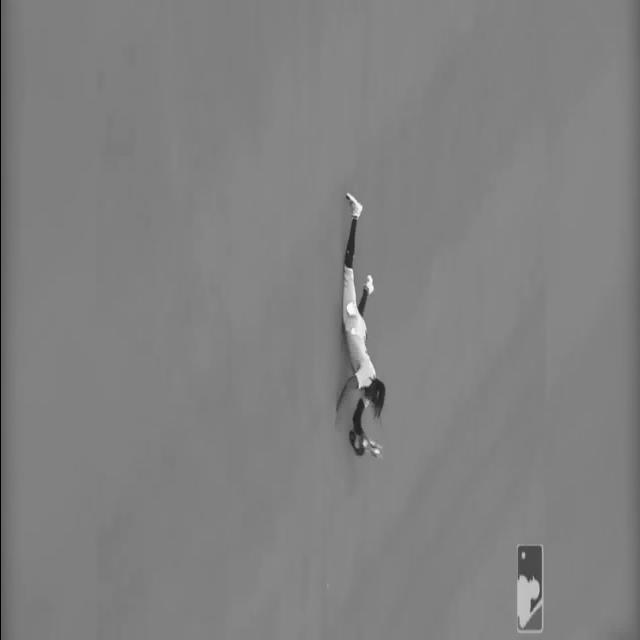baseball_glove: (346, 430, 378, 454)
shoe: (347, 190, 361, 220), (364, 274, 374, 292)
